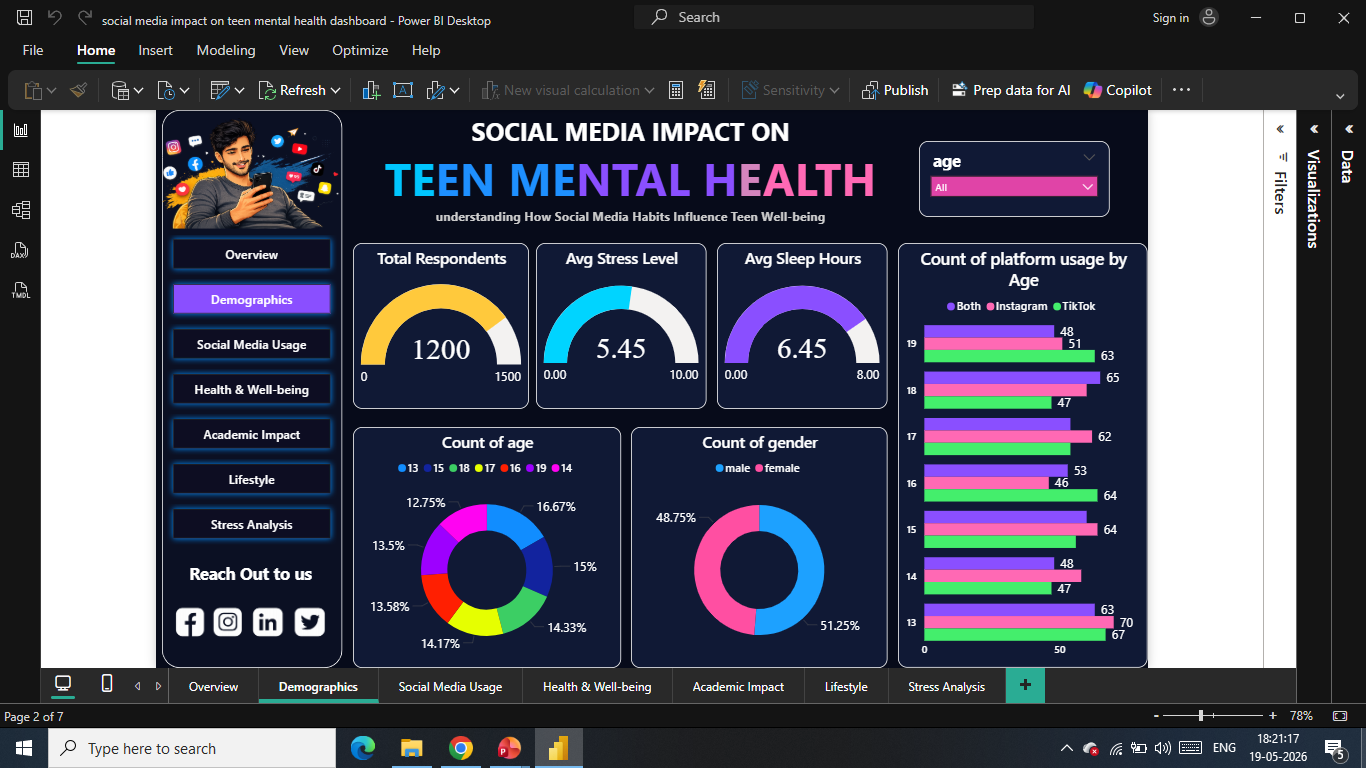

The dashboard page shown, as its layout file describes it:
{"tool":"powerbi","page":{"name":"Demographics","canvas":[1280,720],"ordinal":1},"visuals":[{"type":"shape","box":[7.2,0,232.8,720],"z":0},{"type":"pageNavigator","box":[14.5,159,219.8,403.4],"z":1000},{"type":"textbox","box":[240,0,744.6,157.6],"z":2000},{"type":"gauge","title":"Total Respondents","fields":{"Y":["CountNonNull(Teen_Mental_Health_Dataset.age)"]},"box":[254.5,172,227,214],"z":4000},{"type":"gauge","title":"Avg Sleep Hours","fields":{"Y":["Avg(Teen_Mental_Health_Dataset.sleep_hours)"]},"box":[724.3,172,219.8,214],"z":5000},{"type":"donutChart","title":"Count of age","fields":{"Category":["Teen_Mental_Health_Dataset.age"],"Y":["CountNonNull(Teen_Mental_Health_Dataset.age)"]},"box":[254.5,409.2,345.5,310.8],"z":6000},{"type":"image","box":[7.2,0,231.3,159],"z":7000},{"type":"image","box":[7.2,614.5,232.8,91.1],"z":8000},{"type":"textbox","box":[24.6,578.3,195.2,47.7],"z":9000},{"type":"gauge","fields":{"Y":["Teen_Mental_Health_Dataset.Avg Stress Level"]},"box":[490.1,172,219.8,214],"z":10000},{"type":"donutChart","title":"Count of gender ","fields":{"Category":["Teen_Mental_Health_Dataset.gender"],"Y":["CountNonNull(Teen_Mental_Health_Dataset.gender)"]},"box":[613,409.2,331.1,310.8],"z":11000},{"type":"clusteredBarChart","title":"Count of platform usage by Age","fields":{"Y":["CountNonNull(Teen_Mental_Health_Dataset.platform_usage)"],"Category":["Teen_Mental_Health_Dataset.age"],"Series":["Teen_Mental_Health_Dataset.platform_usage"]},"box":[957.1,172,322.4,548],"z":12000},{"type":"slicer","fields":{"Values":["Teen_Mental_Health_Dataset.age"]},"box":[984.6,40.5,245.8,98.3],"z":13000}]}

Visuals, with their boxes on the page's 1280x720 design canvas (x1, y1, x2, y2). These are canvas units, not pixel positions in the 1366x768 screenshot, which may show the page scaled, cropped or inside an application window:
shape: 7, 0, 240, 720
pageNavigator: 14, 159, 234, 562
textbox: 240, 0, 985, 158
"Total Respondents" gauge: 254, 172, 482, 386
"Avg Sleep Hours" gauge: 724, 172, 944, 386
"Count of age" donutChart: 254, 409, 600, 720
image: 7, 0, 238, 159
image: 7, 614, 240, 706
textbox: 25, 578, 220, 626
gauge - Teen_Mental_Health_Dataset.Avg Stress Level: 490, 172, 710, 386
"Count of gender " donutChart: 613, 409, 944, 720
"Count of platform usage by Age" clusteredBarChart: 957, 172, 1280, 720
slicer - Teen_Mental_Health_Dataset.age: 985, 40, 1230, 139
